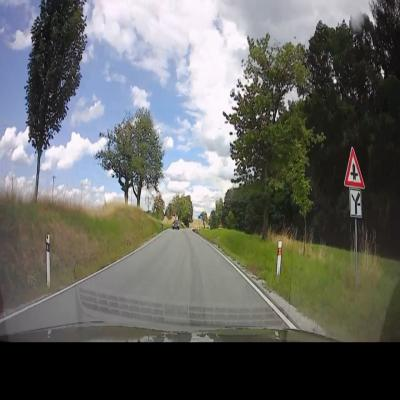clear-road: (88, 229, 264, 307)
